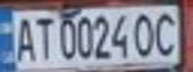0: (54, 12, 78, 61), (75, 11, 93, 61)
2: (90, 11, 112, 61)
4: (109, 10, 133, 60)
A: (9, 14, 36, 63)
C: (151, 8, 181, 57)
O: (130, 9, 160, 58)
T: (30, 12, 57, 62)
